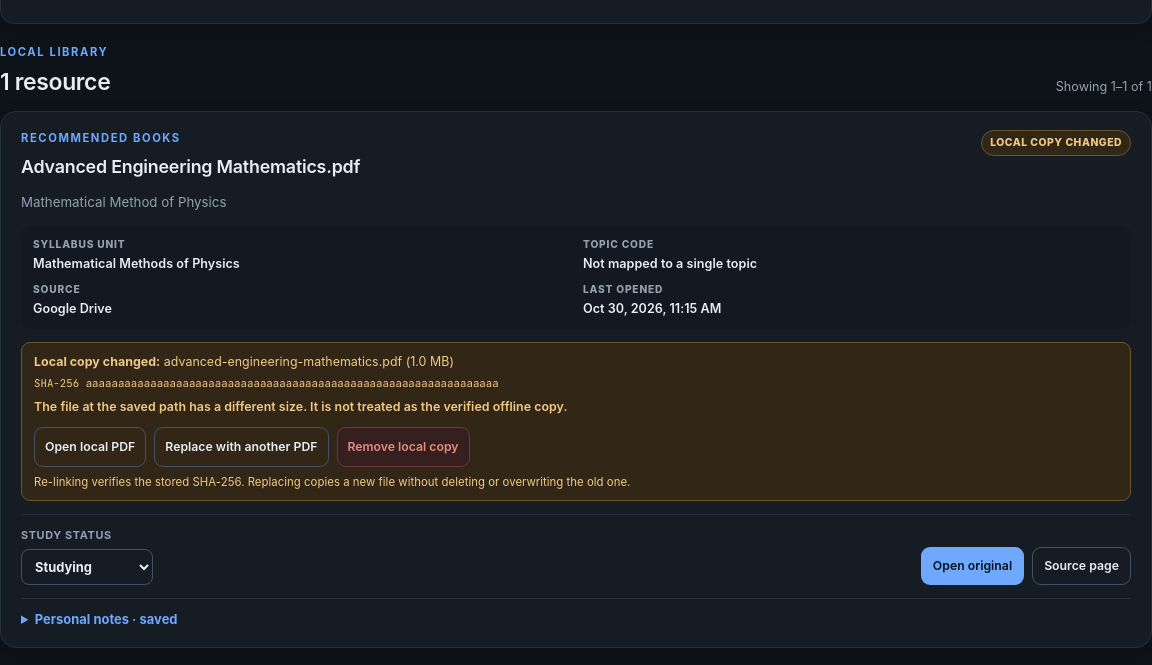
Scenario: study resources screen › shows changed local files, rejects opening them, and replaces the reference
The width and height of the screenshot is (1152, 665).
(page scrolled)
Expected: the heading "Advanced Engineering Mathematics.pdf" is shown, [21,155,360,180]
Expected: the text "Local copy changed" is shown, [981,130,1131,156]
What coordinates should you click on to do the following:
click the button "Open local PDF"
I would click on:
 (90, 447)
Its box is [34,427,146,467].
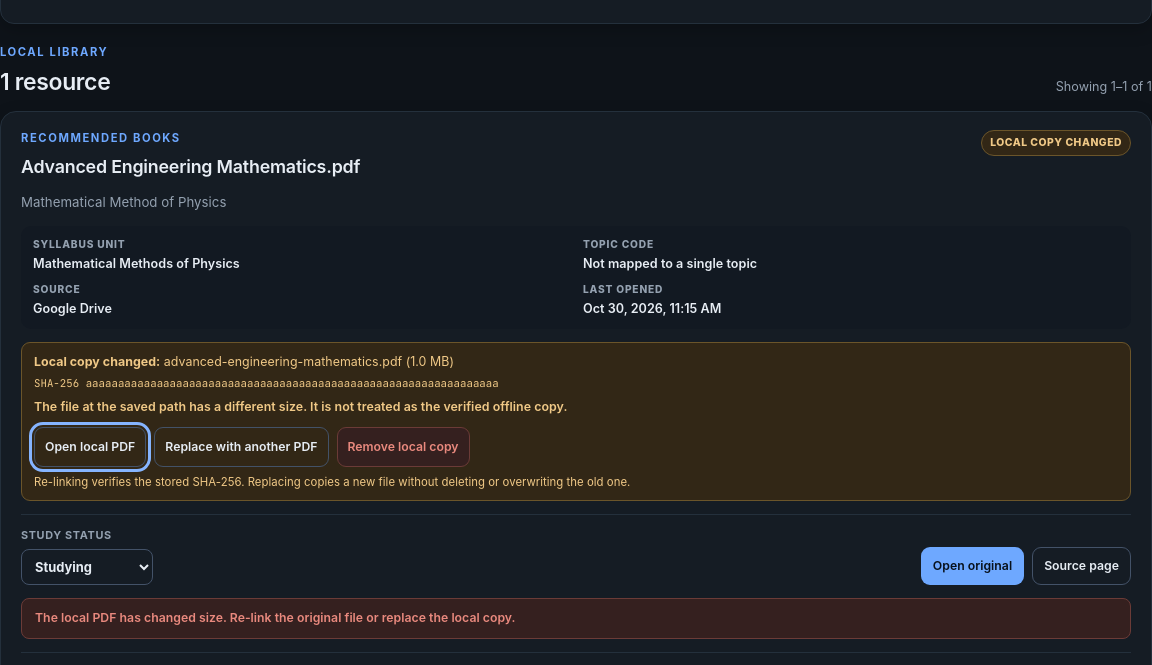
Expected: the text "changed size" is shown, [35,610,516,625]
What coordinates should you click on to do the following:
click the button "Replace with another PDF"
I would click on:
 (241, 447)
Its box is [154,427,328,467].
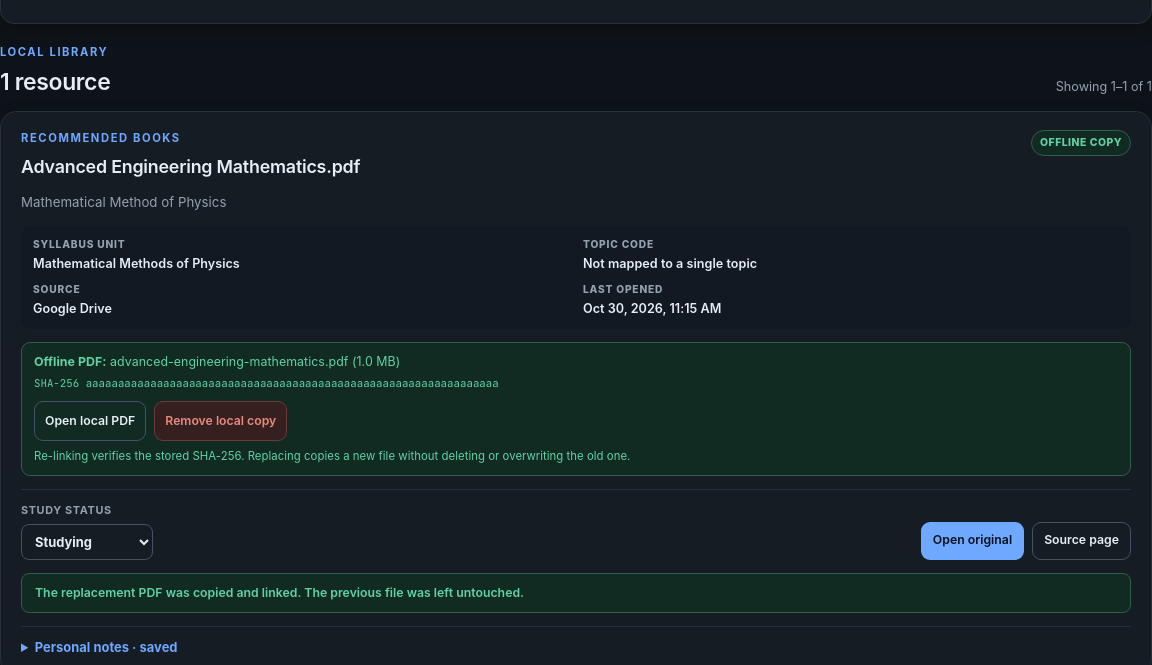
Expected: the text "Offline copy" is shown, [1031,130,1131,156]
